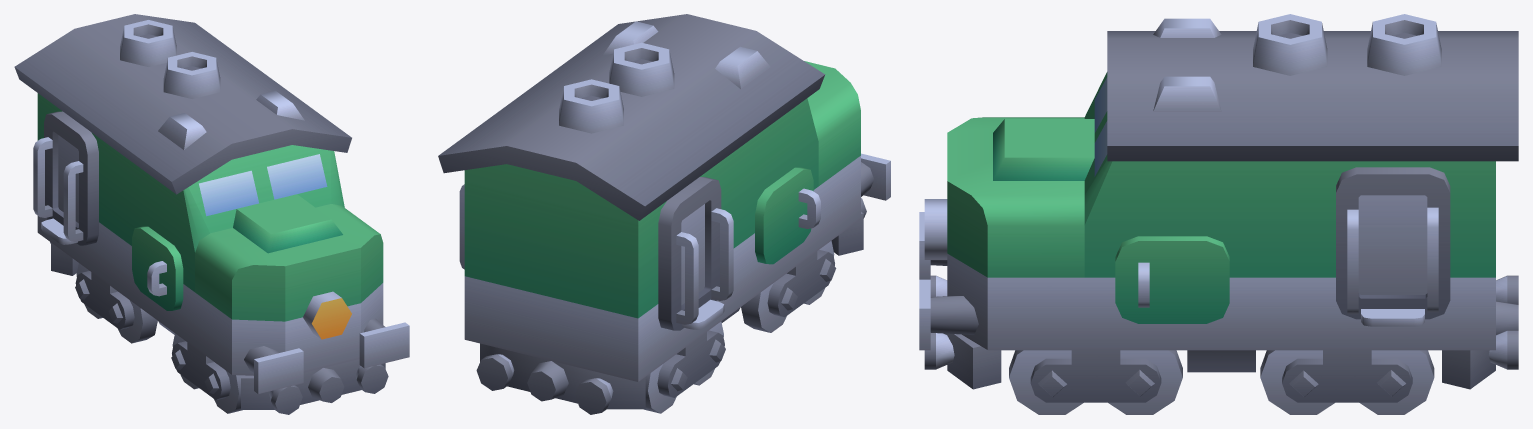
The model's file is kenney-train-train-diesel-box-a.glb.
3 views of the same model, side by side, from view 1: azimuth 30°, elevation 25°; view 2: azimuth 150°, elevation 25°; view 3: azimuth 270°, elevation 25° (orthographic). The views are drawn at different scales.
Parts seen in each view (by area): view 1: train-diesel-box-a; view 2: train-diesel-box-a; view 3: train-diesel-box-a.
Boxes of the visible parts, x1,y1,x2,y2 form: train-diesel-box-a: (14, 14, 409, 414); train-diesel-box-a: (438, 14, 890, 414); train-diesel-box-a: (919, 14, 1518, 414).
Bounding box in the file's own units: 1.35 × 1.67 × 2.62.
Materials: 1 (1 with a texture image).
